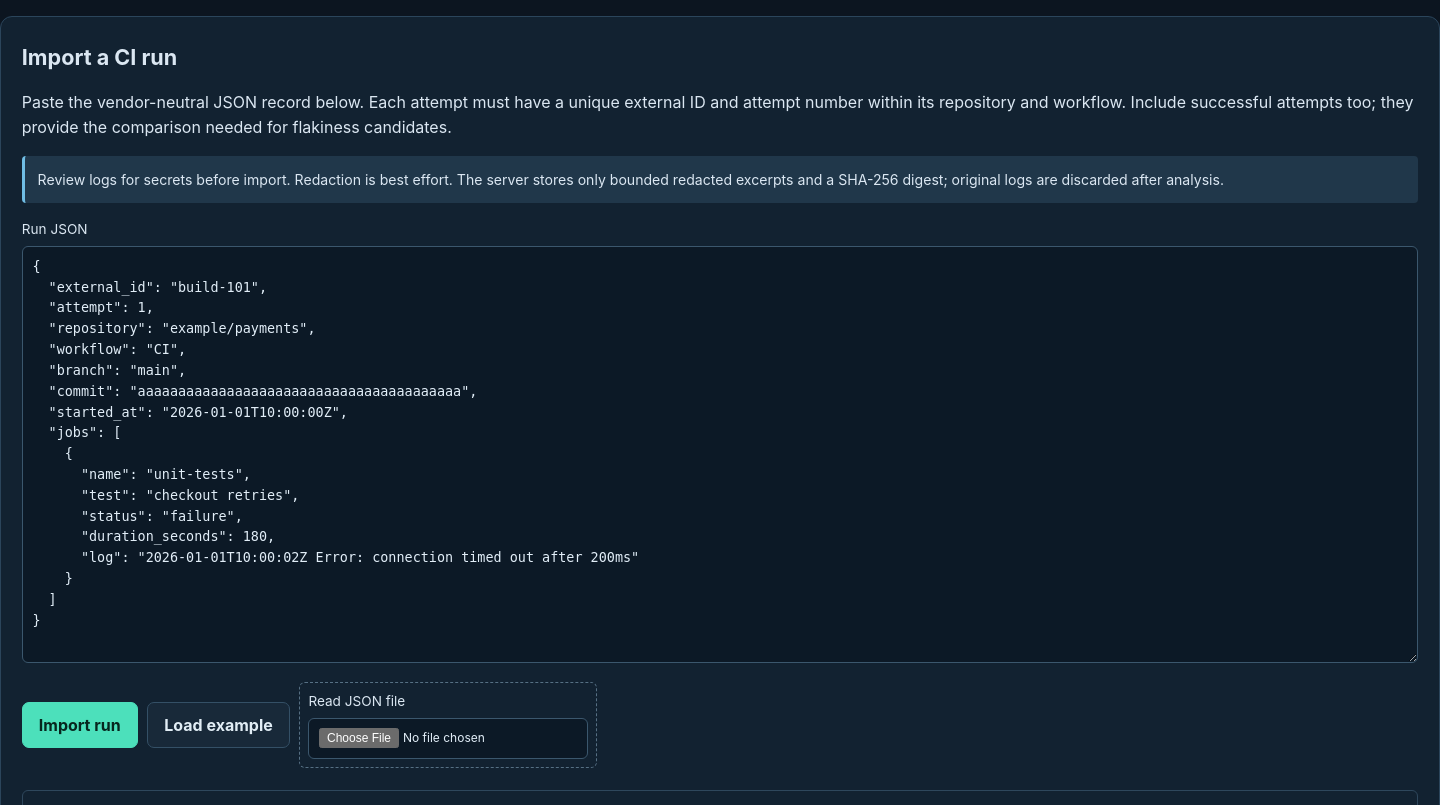
Test case: CI workflows › imports structured JSON and distinguishes idempotent replay
This screenshot has width=1440, height=805.
Click the button "Import run". click: {"x": 80, "y": 725}
box: [22,702,138,748]
(page scrolled)
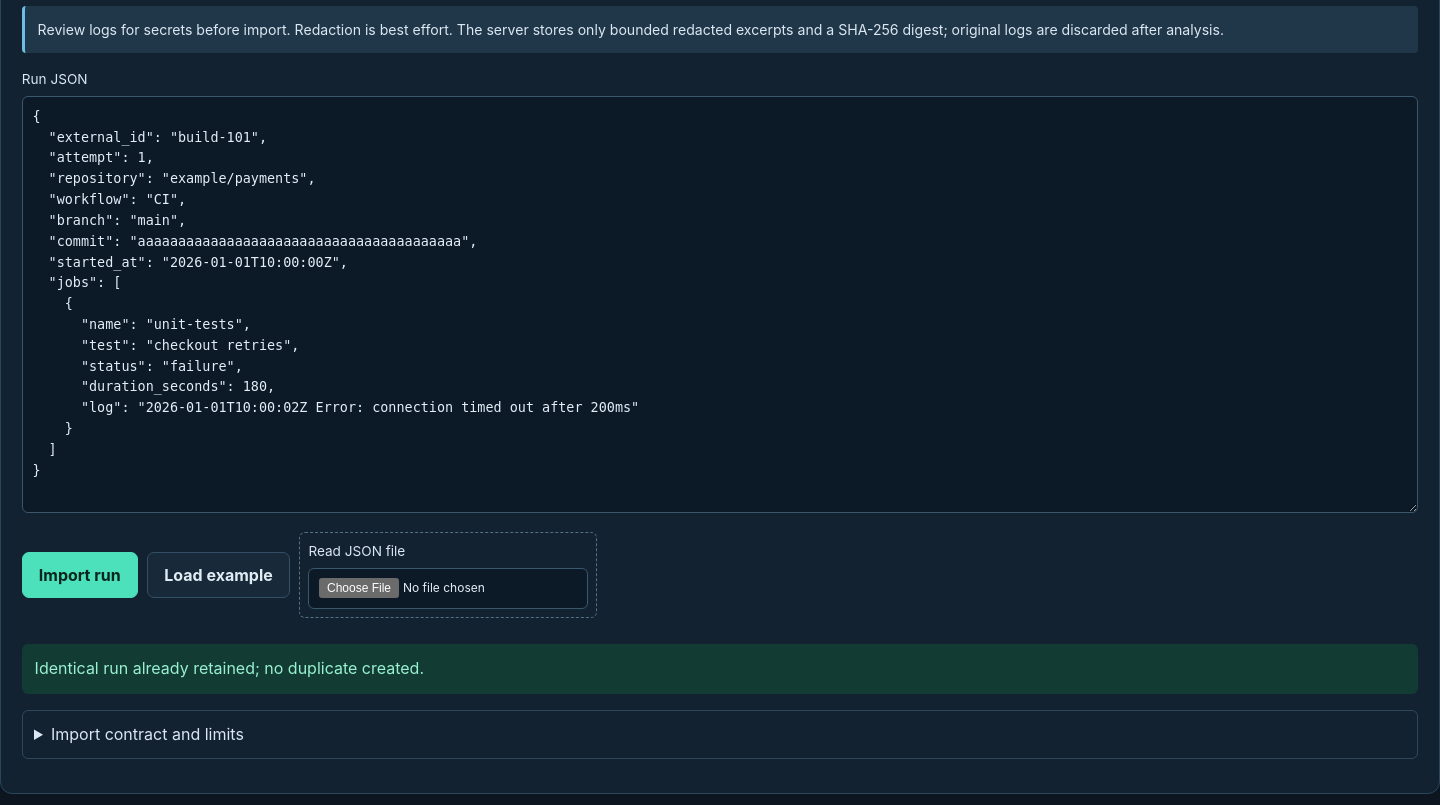
Expected: the text "Identical run already retained; no duplicate created." is shown, [22,644,1418,694]
